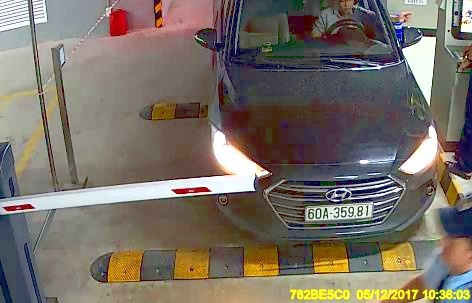plate: (305, 201, 374, 223)
